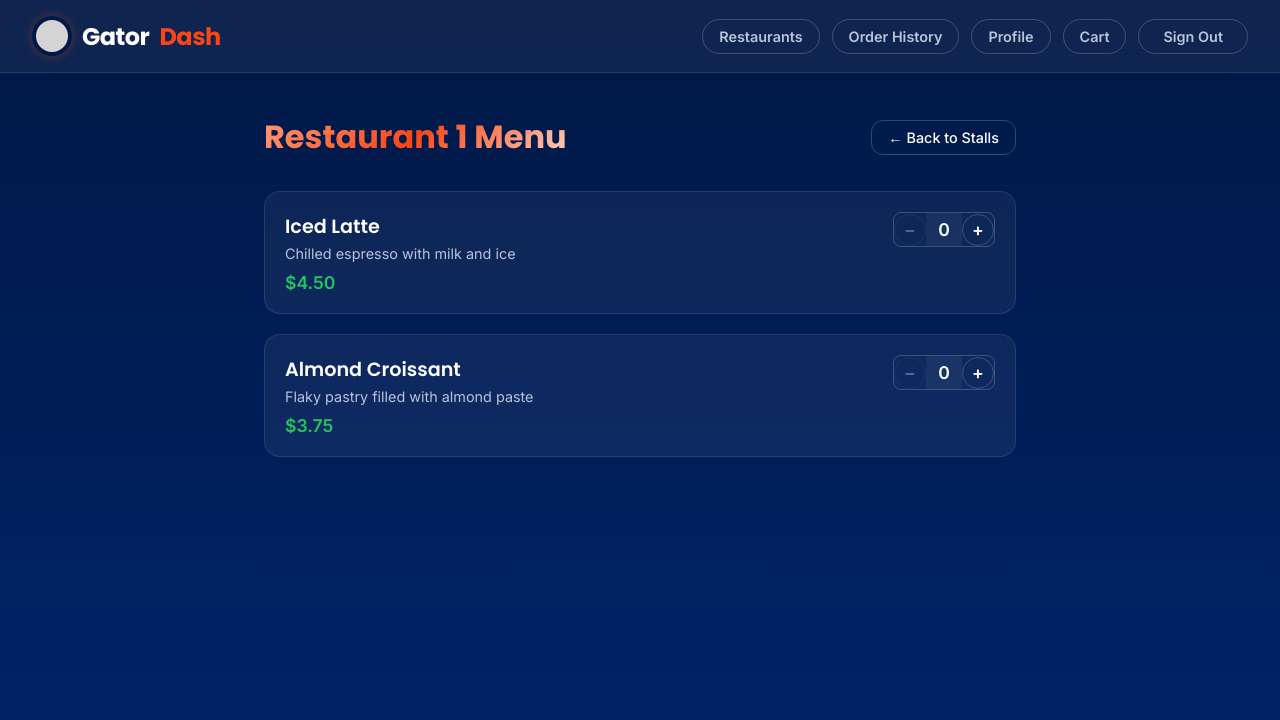
Test: Menu Page - JWT Auth + Cart Flow › shows Add to Cart button after incrementing quantity
The width and height of the screenshot is (1280, 720).
Click the button "+" in the row of "Almond Croissant": (978, 373) [962, 357, 994, 389]
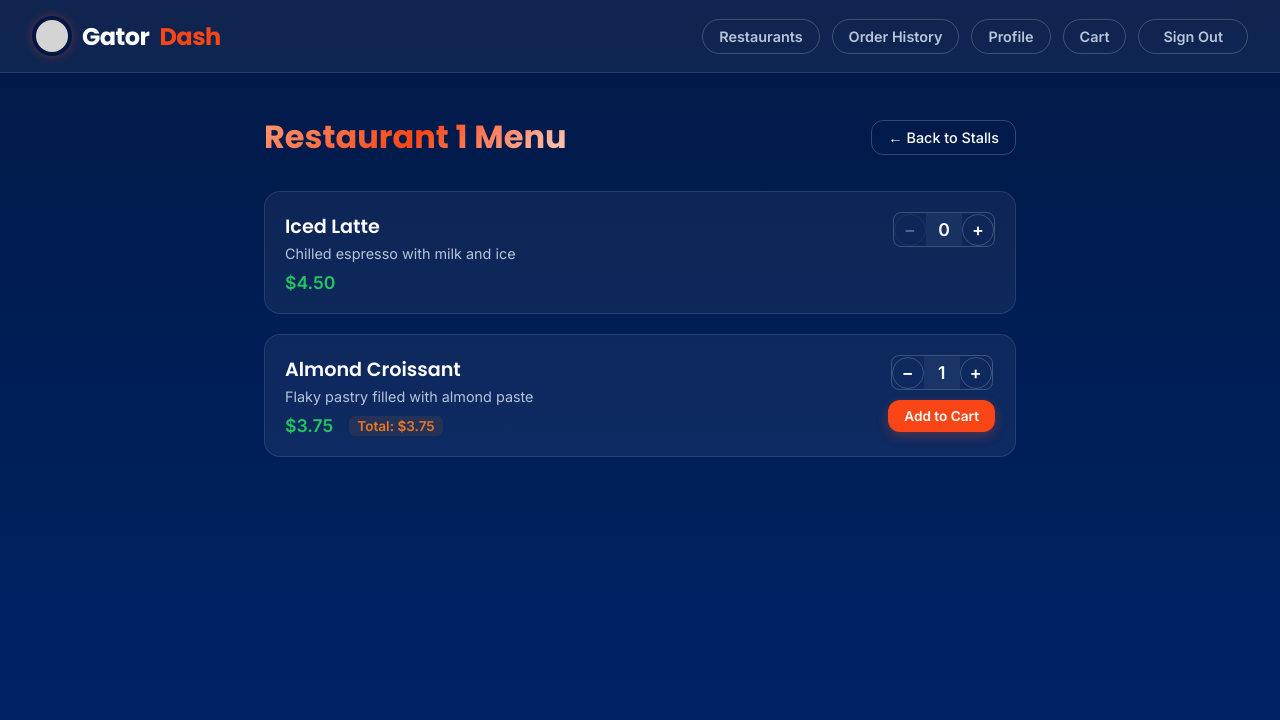
Result: the button "Add to Cart" is shown at [888, 400, 995, 432]
